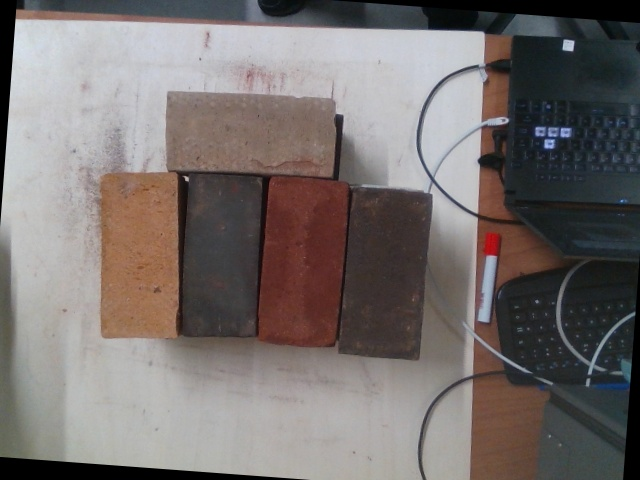brick: (339, 190, 431, 360), (256, 178, 346, 344), (163, 90, 334, 177), (179, 178, 263, 340), (99, 174, 177, 337)
